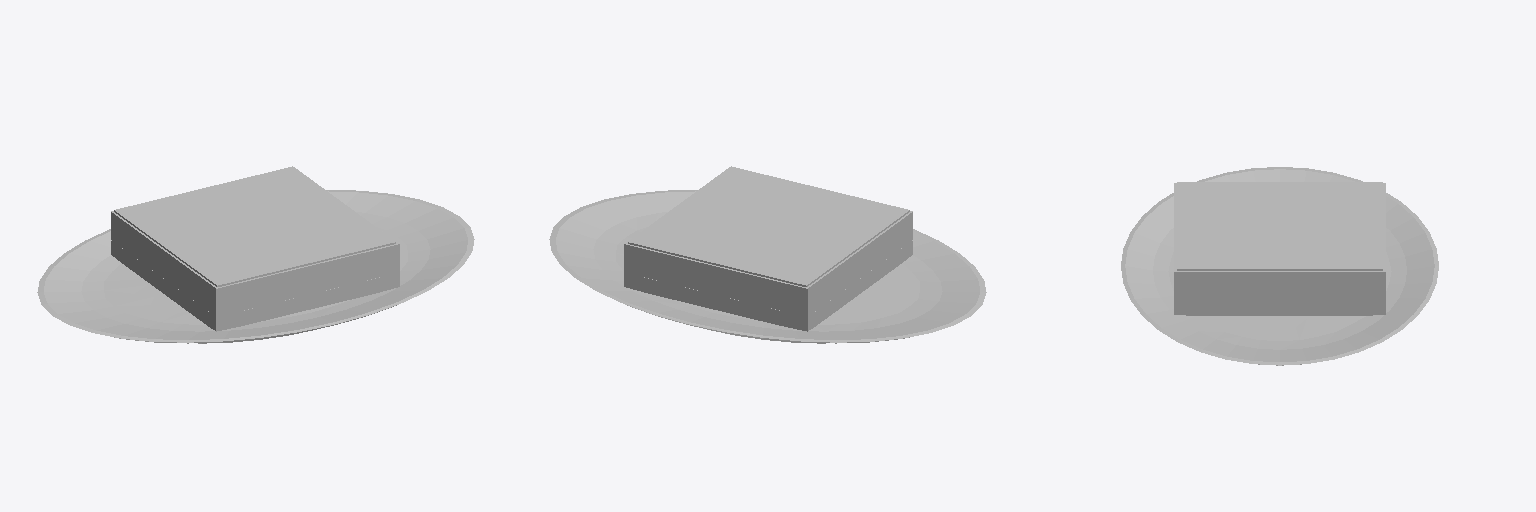
The model's file is kue lapis legit.obj.
3 renders of one model, left to right at view 1: azimuth 30°, elevation 25°; view 2: azimuth 150°, elevation 25°; view 3: azimuth 270°, elevation 25°, orthographic.
Visible parts, largest first — view 1: Cylinder_Cylinder.001, Cube.005, Cube.004, Cube.002, Cube, Cube.006, Cube.007; view 2: Cylinder_Cylinder.001, Cube.005, Cube.004, Cube.002, Cube, Cube.006, Cube.007; view 3: Cylinder_Cylinder.001, Cube.005, Cube.004, Cube, Cube.002, Cube.006.
Boxes of the visible parts, <box> form: Cylinder_Cylinder.001: <box>37,190,474,343</box>; Cube.005: <box>114,166,395,286</box>; Cube.004: <box>111,169,399,301</box>; Cube.002: <box>111,227,399,316</box>; Cube: <box>111,242,399,331</box>; Cube.006: <box>111,240,399,318</box>; Cube.007: <box>111,225,399,303</box>; Cylinder_Cylinder.001: <box>549,190,986,343</box>; Cube.005: <box>628,166,909,286</box>; Cube.004: <box>624,169,912,301</box>; Cube.002: <box>624,227,912,316</box>; Cube: <box>624,242,912,331</box>; Cube.006: <box>624,240,912,318</box>; Cube.007: <box>624,225,912,303</box>; Cylinder_Cylinder.001: <box>1121,167,1438,365</box>; Cube.005: <box>1177,182,1382,270</box>; Cube.004: <box>1174,183,1385,284</box>; Cube: <box>1174,302,1385,315</box>; Cube.002: <box>1174,287,1385,299</box>; Cube.006: <box>1174,300,1385,302</box>.
Size of the model in its own units: 6.96 by 0.984 by 4.71.